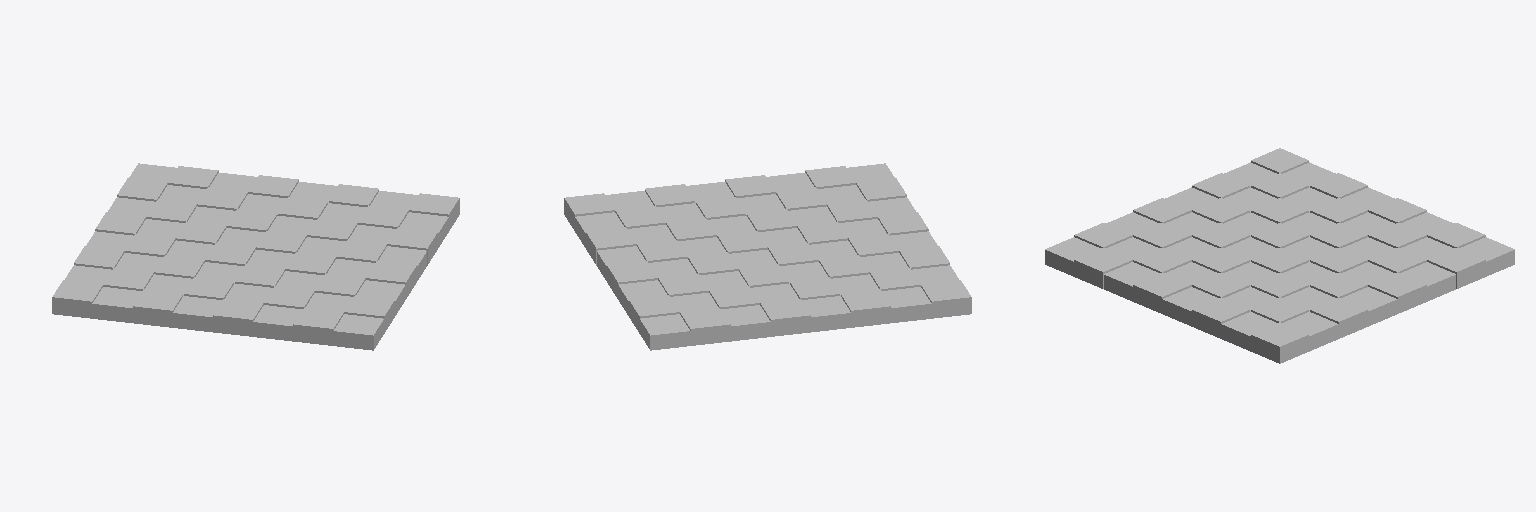
Rendered from board.obj.
3 views of the same model, side by side, from view 1: azimuth 30°, elevation 25°; view 2: azimuth 150°, elevation 25°; view 3: azimuth 270°, elevation 25° (orthographic).
Visible parts, largest first — view 1: Body-Move/Copy1[3], Body-Move/Copy1[26], Body-Move/Copy1[1], Body-Move/Copy1[25], Body-Move/Copy1[33], Body-Move/Copy1[4], Body-Move/Copy1[11], Body-Move/Copy1[12], Body-Move/Copy1[2], Body-Move/Copy1[24], Body-Move/Copy1[10], Body-Move/Copy1[14] (+21 smaller); view 2: Body-Move/Copy1[3], Body-Move/Copy1[30], Body-Move/Copy1[1], Body-Move/Copy1[19], Body-Move/Copy1[31], Body-Move/Copy1[6], Body-Move/Copy1[7], Body-Move/Copy1[18], Body-Move/Copy1[2], Body-Move/Copy1[20], Body-Move/Copy1[8], Body-Move/Copy1[16] (+21 smaller); view 3: Body-Move/Copy1[3], Body-Move/Copy1[2], Body-Move/Copy1[12], Body-Move/Copy1[18], Body-Move/Copy1[4], Body-Move/Copy1[6], Body-Move/Copy1[7], Body-Move/Copy1[11], Body-Move/Copy1[28], Body-Move/Copy1[19], Body-Move/Copy1[20], Body-Move/Copy1[24] (+21 smaller).
Part boxes in pixels (bbox=[...]): Body-Move/Copy1[3]: bbox=[65, 163, 448, 350]; Body-Move/Copy1[26]: bbox=[213, 299, 263, 336]; Body-Move/Copy1[1]: bbox=[52, 280, 102, 318]; Body-Move/Copy1[25]: bbox=[293, 308, 343, 345]; Body-Move/Copy1[33]: bbox=[133, 289, 182, 327]; Body-Move/Copy1[4]: bbox=[387, 227, 437, 265]; Body-Move/Copy1[11]: bbox=[366, 261, 416, 298]; Body-Move/Copy1[12]: bbox=[344, 295, 394, 333]; Body-Move/Copy1[2]: bbox=[409, 193, 459, 230]; Body-Move/Copy1[24]: bbox=[264, 286, 314, 308]; Body-Move/Copy1[10]: bbox=[336, 240, 386, 262]; Body-Move/Copy1[14]: bbox=[285, 252, 335, 274]; Body-Move/Copy1[3]: bbox=[575, 163, 958, 350]; Body-Move/Copy1[30]: bbox=[760, 299, 810, 336]; Body-Move/Copy1[1]: bbox=[921, 280, 971, 318]; Body-Move/Copy1[19]: bbox=[680, 308, 730, 345]; Body-Move/Copy1[31]: bbox=[841, 289, 890, 327]; Body-Move/Copy1[6]: bbox=[586, 227, 636, 265]; Body-Move/Copy1[7]: bbox=[607, 261, 657, 298]; Body-Move/Copy1[18]: bbox=[629, 295, 679, 333]; Body-Move/Copy1[2]: bbox=[564, 193, 614, 230]; Body-Move/Copy1[20]: bbox=[709, 286, 759, 308]; Body-Move/Copy1[8]: bbox=[637, 240, 687, 262]; Body-Move/Copy1[16]: bbox=[688, 252, 738, 274]; Body-Move/Copy1[3]: bbox=[1045, 162, 1514, 351]; Body-Move/Copy1[2]: bbox=[1251, 322, 1308, 363]; Body-Move/Copy1[12]: bbox=[1074, 248, 1132, 288]; Body-Move/Copy1[18]: bbox=[1427, 248, 1485, 288]; Body-Move/Copy1[4]: bbox=[1192, 297, 1249, 338]; Body-Move/Copy1[6]: bbox=[1310, 297, 1367, 338]; Body-Move/Copy1[7]: bbox=[1368, 272, 1426, 313]; Body-Move/Copy1[11]: bbox=[1133, 272, 1191, 313]; Body-Move/Copy1[28]: bbox=[1251, 198, 1308, 223]; Body-Move/Copy1[19]: bbox=[1427, 223, 1485, 247]; Body-Move/Copy1[20]: bbox=[1368, 223, 1426, 247]; Body-Move/Copy1[24]: bbox=[1133, 223, 1191, 247].
Size of the model in its own units: 16.7 by 0.6693 by 16.7.